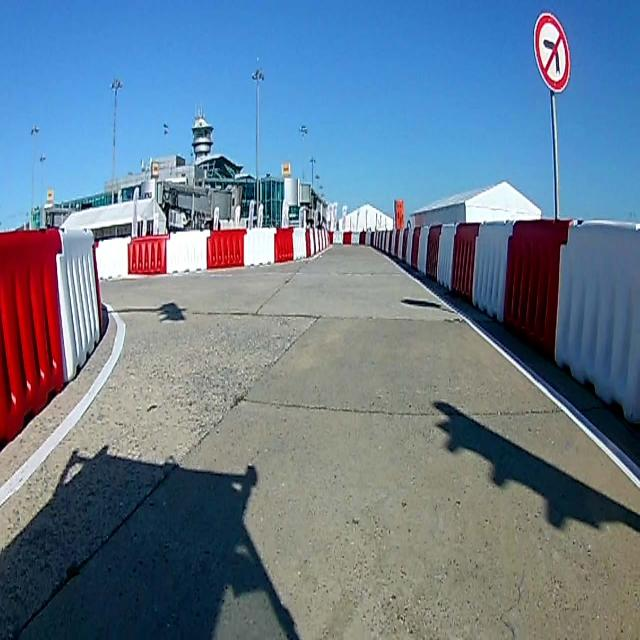soladonulmez: (534, 13, 570, 91)
